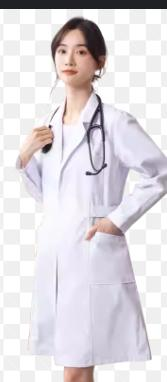lab_coat: (15, 90, 166, 369)
